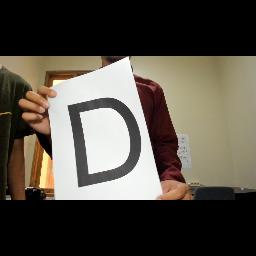d: (63, 98, 145, 190)
